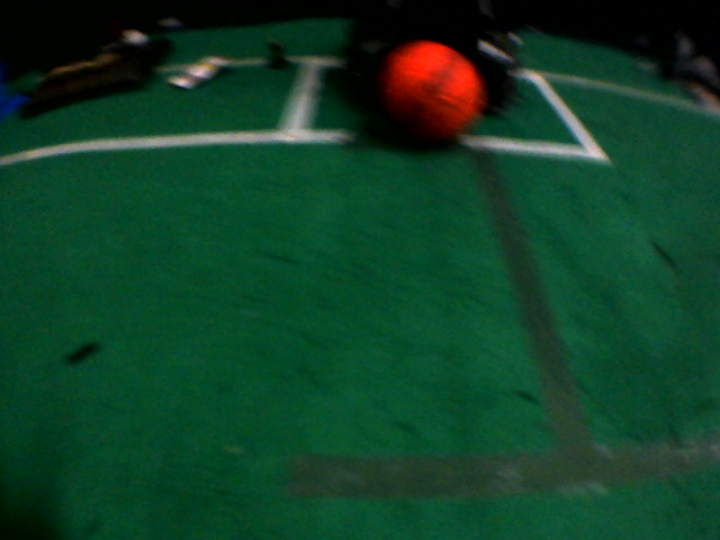bola: (379, 34, 487, 150)
